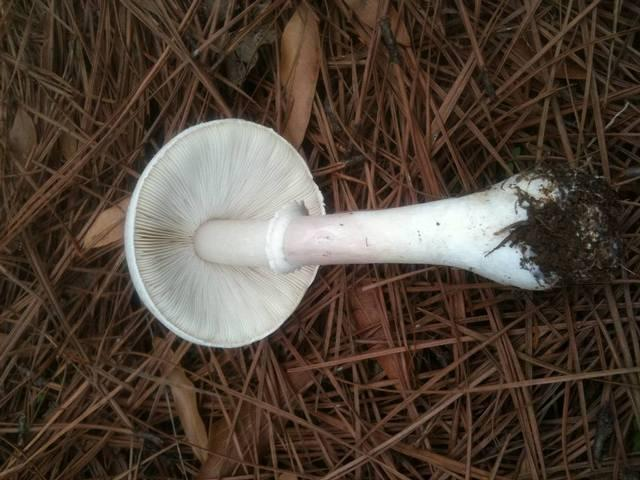poisonous_mushroom: (122, 116, 623, 348)
